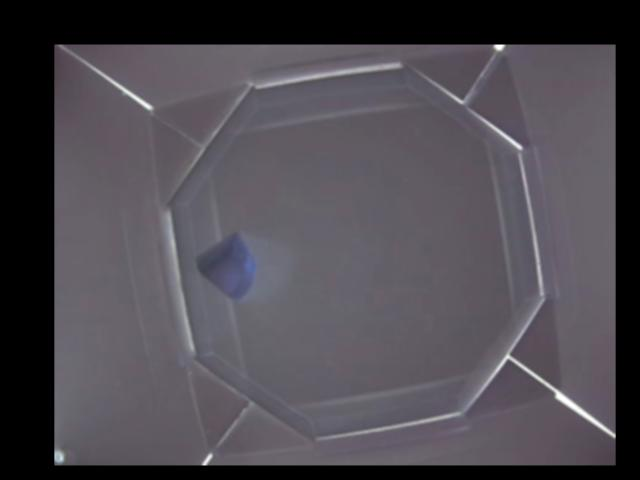Mooli: (197, 233, 256, 302)
